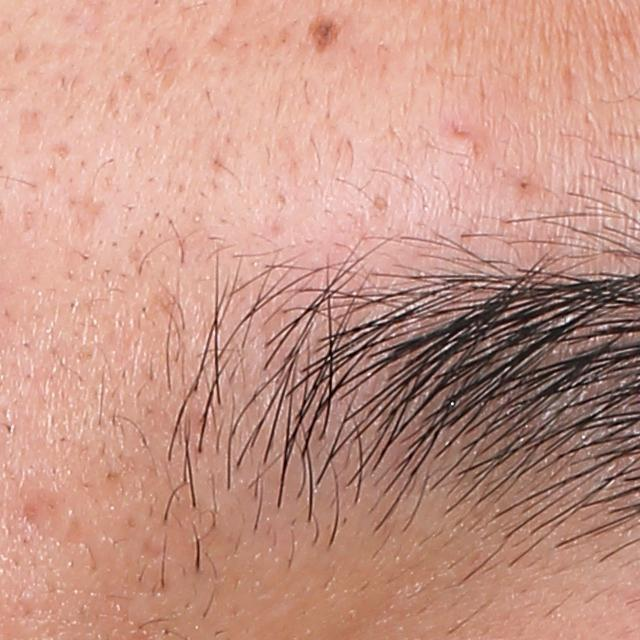atrophic_scar: (14, 104, 45, 149)
comedo: (370, 192, 391, 215), (515, 176, 535, 194)
nevus: (305, 13, 341, 56)
